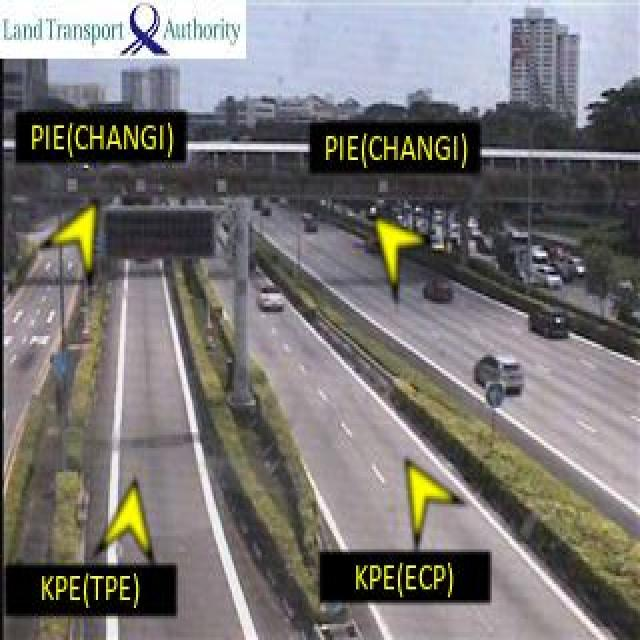vehicles: (472, 352, 525, 402), (527, 297, 578, 347), (424, 276, 460, 311), (302, 211, 326, 240), (259, 289, 284, 316)
